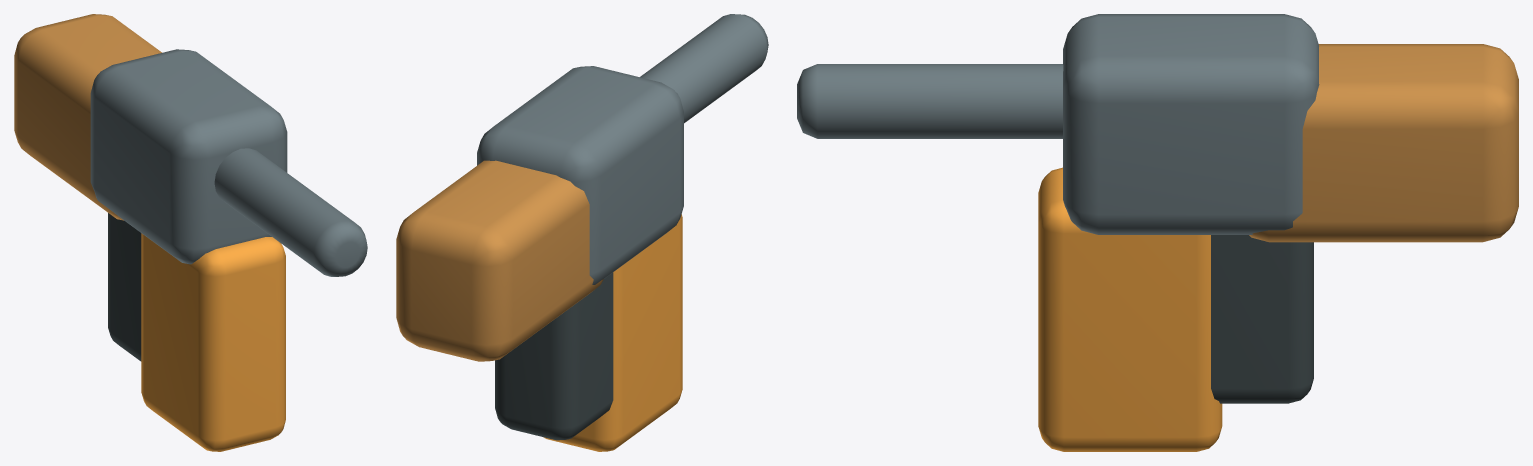
Rendered from weapon_smg.glb.
The picture shows the model from 3 angles, left to right: view 1: azimuth 30°, elevation 25°; view 2: azimuth 150°, elevation 25°; view 3: azimuth 270°, elevation 25°; orthographic projection. The views are drawn at different scales.
Parts seen in each view (by area): view 1: Receiver.006, Magazine.003, Stock.004, Weapon barrel.006, Grip.006; view 2: Stock.004, Receiver.006, Magazine.003, Grip.006, Weapon barrel.006; view 3: Receiver.006, Stock.004, Magazine.003, Weapon barrel.006, Grip.006.
Part boxes in pixels (x1,y1,x2,y2): Receiver.006: (90, 49, 287, 264); Magazine.003: (141, 233, 285, 451); Stock.004: (14, 14, 161, 220); Weapon barrel.006: (214, 148, 367, 276); Grip.006: (108, 213, 141, 361); Stock.004: (396, 160, 603, 361); Receiver.006: (477, 66, 683, 284); Magazine.003: (543, 214, 682, 451); Grip.006: (495, 272, 613, 440); Weapon barrel.006: (640, 14, 768, 123); Receiver.006: (1063, 14, 1319, 234); Stock.004: (1249, 44, 1518, 242); Magazine.003: (1038, 167, 1222, 451); Weapon barrel.006: (797, 64, 1063, 138); Grip.006: (1211, 235, 1313, 403).
Bounding box in the file's own units: 0.16 × 0.43 × 0.707.
